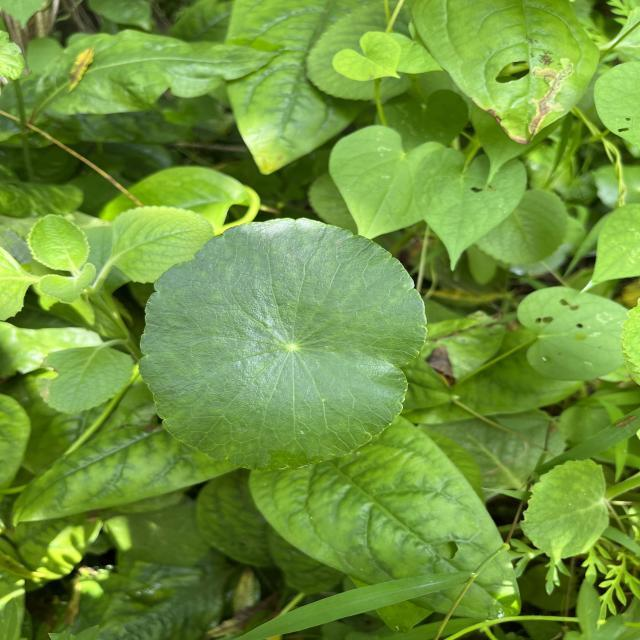Bacopa monnieri: (134, 211, 436, 476)
